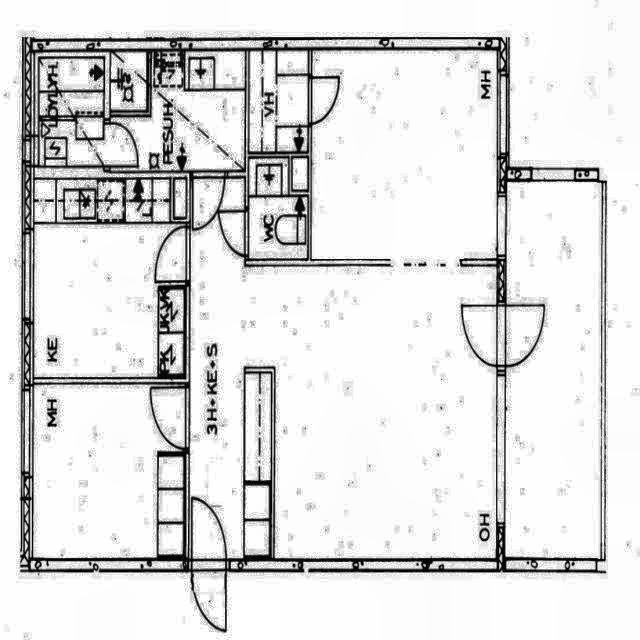room: (312, 50, 497, 259), (505, 182, 602, 558), (31, 178, 186, 378), (33, 385, 185, 557), (33, 51, 246, 171), (250, 51, 308, 152), (249, 158, 307, 258)
